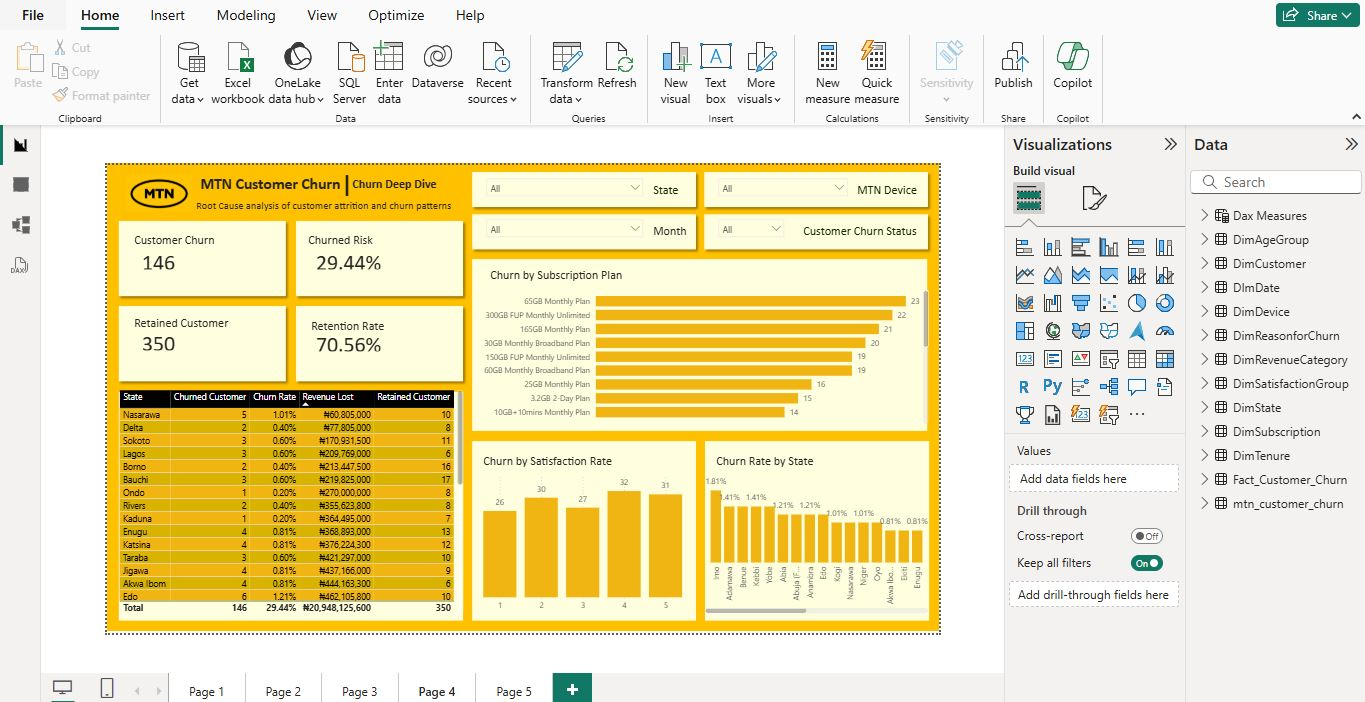

The page's visual inventory and layout, read from the dashboard file:
{"tool":"powerbi","page":{"name":"Page 4","canvas":[1280,720],"ordinal":3},"visuals":[{"type":"textbox","box":[835.8,21.1,215.7,52.9],"z":0},{"type":"slicer","fields":{"Values":["DimDevice.MTN Device"]},"box":[930,11.1,218.6,47.1],"z":1000},{"type":"slicer","fields":{"Values":["Fact_Customer_Churn.Customer Churn Status"]},"box":[930,73.9,121.4,47.1],"z":2000},{"type":"textbox","box":[1065.8,83.9,192.9,42.9],"z":3000},{"type":"textbox","box":[835.8,83.9,108.6,42.9],"z":4000},{"type":"textbox","box":[1148.6,21.1,110,52.9],"z":5000},{"type":"slicer","fields":{"Values":["DimState.State"]},"box":[574.3,11.1,261.4,47.1],"z":6000},{"type":"slicer","fields":{"Values":["DImDate.Month Name"]},"box":[574.3,73.9,261.4,47.1],"z":7000},{"type":"cardVisual","fields":{"Data":["Dax Measures.Retained Customer"]},"box":[37.2,229.6,177.1,61.4],"z":8000},{"type":"textbox","box":[37.2,226.8,215.7,52.9],"z":9000},{"type":"cardVisual","fields":{"Data":["Dax Measures.Retention Rate"]},"box":[304.3,231.1,177.1,61.4],"z":10000},{"type":"textbox","box":[308.6,231.1,215.7,52.9],"z":11000},{"type":"cardVisual","fields":{"Data":["Dax Measures.Churned Customer"]},"box":[37.2,105.4,177.1,61.4],"z":12000},{"type":"textbox","box":[37.2,98.2,215.7,52.9],"z":13000},{"type":"cardVisual","fields":{"Data":["Dax Measures.Churn Rate"]},"box":[304.3,105.4,215.7,61.4],"z":14000},{"type":"textbox","box":[304.3,98.2,215.7,52.9],"z":15000},{"type":"textbox","box":[932.9,438.2,215.7,52.9],"z":16000},{"type":"columnChart","fields":{"Category":["Fact_Customer_Churn.Satisfaction Rate"],"Y":["Dax Measures.Churned Customer"]},"box":[573.9,465.2,315.9,230.4],"z":17000},{"type":"textbox","box":[574.3,438.2,241.4,52.9],"z":18000},{"type":"barChart","fields":{"Y":["Dax Measures.Churned Customer"],"Category":["DimSubscription.Subscription Plan"]},"box":[562.9,179.6,705.7,222.9],"z":19000},{"type":"textbox","box":[584.3,152.5,251.4,52.9],"z":20000},{"type":"tableEx","fields":{"Values":["DimState.State","Dax Measures.Churned Customer","Dax Measures.Churn Rate","Dax Measures.Revenue Lost","Dax Measures.Retained Customer"]},"box":[14.3,341.1,538.6,354.3],"z":21000},{"type":"clusteredColumnChart","fields":{"Category":["DimState.State"],"Y":["Dax Measures.Churn Rate"]},"box":[915.8,465.4,352.9,230],"z":22000},{"type":"image","box":[0,8.7,159.4,68.1],"z":23000},{"type":"textbox","box":[139.1,8.7,246.4,44.9],"z":24000},{"type":"textbox","box":[372.5,11.6,172.5,44.9],"z":25000},{"type":"textbox","box":[129,47.8,408.7,60.9],"z":26000},{"type":"textbox","box":[355.1,0,39.1,84.1],"z":27000}]}

Visuals, with their boxes on the page's 1280x720 design canvas (x1, y1, x2, y2). These are canvas units, not pixel positions in the 1365x702 screenshot, which may show the page scaled, cropped or inside an application window:
textbox: <bbox>836, 21, 1052, 74</bbox>
slicer - DimDevice.MTN Device: <bbox>930, 11, 1149, 58</bbox>
slicer - Fact_Customer_Churn.Customer Churn Status: <bbox>930, 74, 1051, 121</bbox>
textbox: <bbox>1066, 84, 1259, 127</bbox>
textbox: <bbox>836, 84, 944, 127</bbox>
textbox: <bbox>1149, 21, 1259, 74</bbox>
slicer - DimState.State: <bbox>574, 11, 836, 58</bbox>
slicer - DImDate.Month Name: <bbox>574, 74, 836, 121</bbox>
cardVisual - Dax Measures.Retained Customer: <bbox>37, 230, 214, 291</bbox>
textbox: <bbox>37, 227, 253, 280</bbox>
cardVisual - Dax Measures.Retention Rate: <bbox>304, 231, 481, 292</bbox>
textbox: <bbox>309, 231, 524, 284</bbox>
cardVisual - Dax Measures.Churned Customer: <bbox>37, 105, 214, 167</bbox>
textbox: <bbox>37, 98, 253, 151</bbox>
cardVisual - Dax Measures.Churn Rate: <bbox>304, 105, 520, 167</bbox>
textbox: <bbox>304, 98, 520, 151</bbox>
textbox: <bbox>933, 438, 1149, 491</bbox>
columnChart - Fact_Customer_Churn.Satisfaction Rate x Dax Measures.Churned Customer: <bbox>574, 465, 890, 696</bbox>
textbox: <bbox>574, 438, 816, 491</bbox>
barChart - Dax Measures.Churned Customer x DimSubscription.Subscription Plan: <bbox>563, 180, 1269, 402</bbox>
textbox: <bbox>584, 152, 836, 205</bbox>
tableEx - DimState.State x Dax Measures.Churned Customer: <bbox>14, 341, 553, 695</bbox>
clusteredColumnChart - DimState.State x Dax Measures.Churn Rate: <bbox>916, 465, 1269, 695</bbox>
image: <bbox>0, 9, 159, 77</bbox>
textbox: <bbox>139, 9, 386, 54</bbox>
textbox: <bbox>372, 12, 545, 56</bbox>
textbox: <bbox>129, 48, 538, 109</bbox>
textbox: <bbox>355, 0, 394, 84</bbox>
